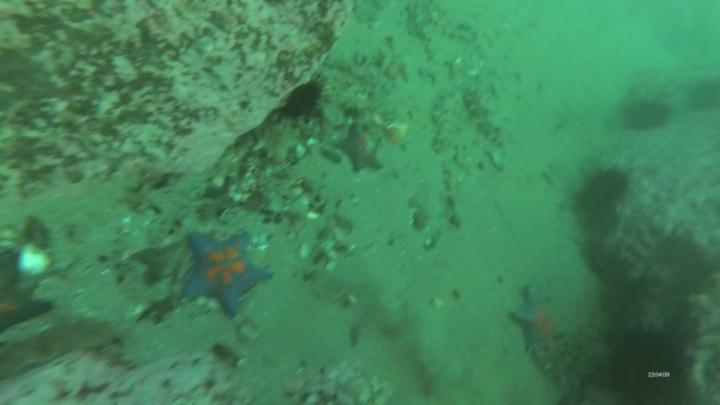echinus: (614, 333, 675, 387), (577, 171, 626, 222), (626, 104, 672, 132), (290, 84, 322, 118)
holothurian: (463, 87, 508, 144), (435, 94, 462, 155), (443, 170, 470, 228)
scallop: (388, 123, 407, 141)
starfish: (185, 234, 272, 318), (514, 286, 566, 349), (339, 128, 385, 174)
